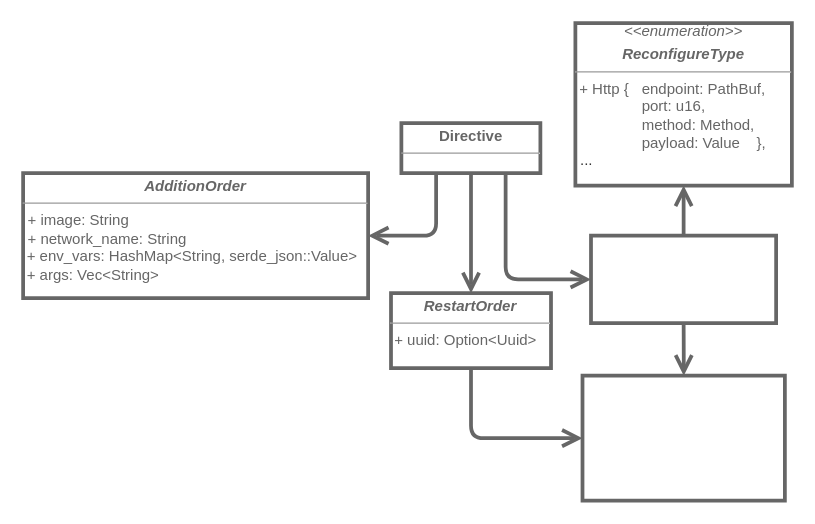
Image size: 815x524. Some labels were removed from this diagram. The shapes that lost their labels are listed below. From the top down, each one's box as (x1, y1, x2, y2) in pixels, then its label:
(588, 233, 777, 324): Reconfigure Order + uuid: Option<Uuid>, + network_name: String
(580, 373, 786, 502): <<enumeration>> QueryType + Http { endpoint: PathBuf, port: u16 }, ...
